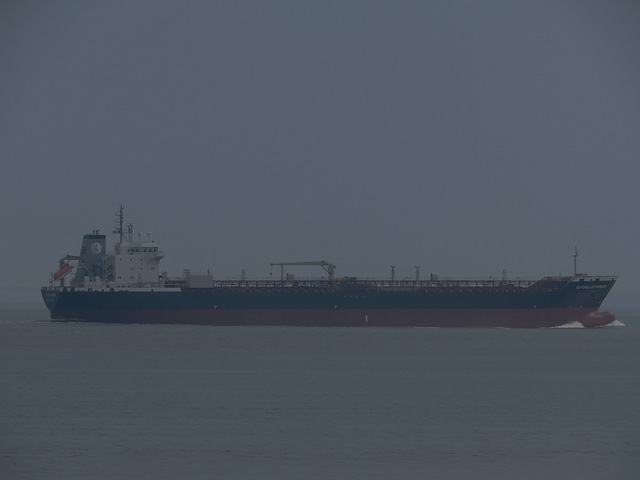tanker: (37, 205, 623, 331)
